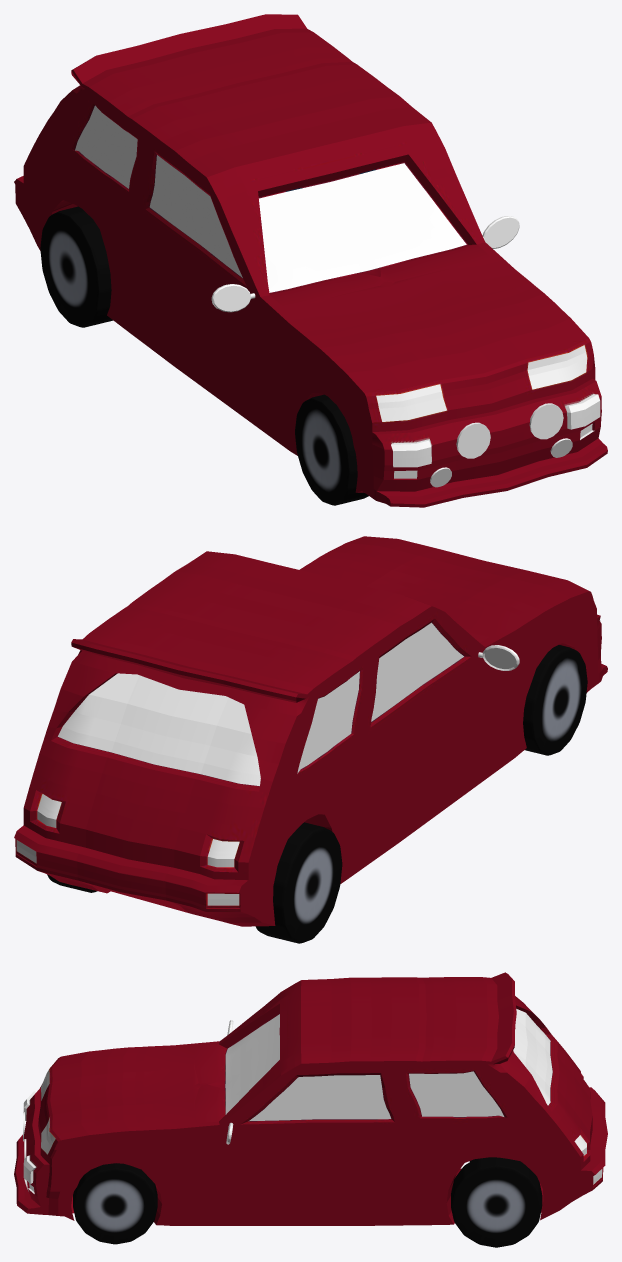
The model's file is Supercinq.fbx.
The picture shows the model from 3 angles, top to bottom: view 1: azimuth 30°, elevation 25°; view 2: azimuth 150°, elevation 25°; view 3: azimuth 270°, elevation 25°; orthographic projection. The views are drawn at different scales.
Parts seen in each view (by area): view 1: Kalandr1, polySurface14, polySurface4; view 2: Kalandr1, polySurface14, polySurface4; view 3: Kalandr1, polySurface13, polySurface3.
Part boxes in pixels (left/top/right/bottom): Kalandr1: left=14, top=14, right=607, bottom=507; polySurface14: left=40, top=206, right=112, bottom=327; polySurface4: left=295, top=394, right=368, bottom=505; Kalandr1: left=14, top=536, right=607, bottom=926; polySurface14: left=255, top=822, right=342, bottom=943; polySurface4: left=523, top=645, right=587, bottom=755; Kalandr1: left=14, top=972, right=607, bottom=1225; polySurface13: left=451, top=1157, right=542, bottom=1247; polySurface3: left=73, top=1163, right=157, bottom=1244.
Bounding box in the file's own units: 11.98 × 9.43 × 26.38.
9 materials, 3 textured.
